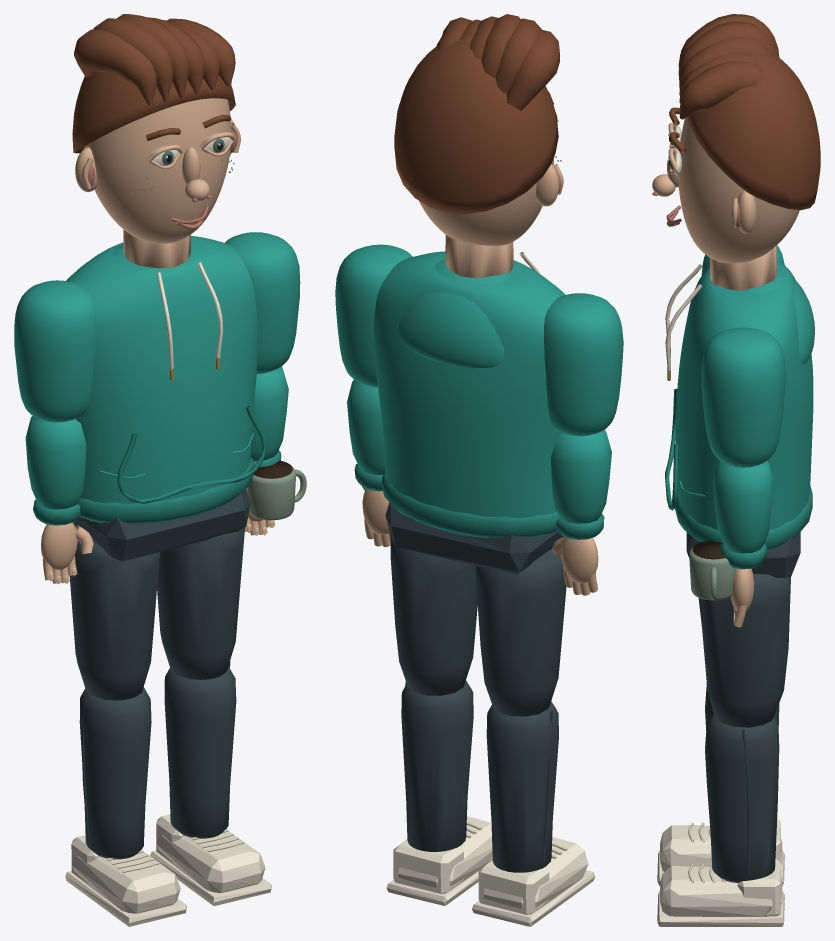
Rendered from wren.glb.
3 views of the same model, side by side, from view 1: azimuth 30°, elevation 25°; view 2: azimuth 150°, elevation 25°; view 3: azimuth 270°, elevation 25° (orthographic). The views are drawn at different scales.
Visible parts, largest first — view 1: Wren_Sweater, Wren_Brow, Wren_Face, Wren_Upper trouserL, Wren_Upper trouserR, Wren_Lower trouserR, Wren_Lower trouserL, Wren_SleeveL, Wren_SleeveR, Wren_ShoeL, Wren_ShoeR, Wren_Pelvis (+9 smaller); view 2: Wren_Sweater, Wren_Brow, Wren_Upper trouserL, Wren_Upper trouserR, Wren_Lower trouserR, Wren_Lower trouserL, Wren_SleeveL, Wren_ShoeL, Wren_SleeveR, Wren_ShoeR, Wren_Pelvis, Wren_Long sleeveL (+7 smaller); view 3: Wren_Brow, Wren_Sweater, Wren_Lower trouserR, Wren_Upper trouserR, Wren_SleeveR, Wren_Face, Wren_ShoeR, Wren_Long sleeveR, Wren_Hem, Wren_ShoeL, Wren_Neck, Wren_Ceramic cup (+5 smaller).
Part boxes in pixels (<box>): Wren_Sweater: <box>66,236,257,523</box>; Wren_Brow: <box>72,14,235,153</box>; Wren_Face: <box>75,98,240,243</box>; Wren_Upper trouserL: <box>69,540,159,700</box>; Wren_Upper trouserR: <box>157,527,244,679</box>; Wren_Lower trouserR: <box>164,661,236,838</box>; Wren_Lower trouserL: <box>79,687,151,859</box>; Wren_SleeveL: <box>14,280,96,422</box>; Wren_SleeveR: <box>225,232,300,374</box>; Wren_ShoeL: <box>65,835,187,926</box>; Wren_ShoeR: <box>150,814,271,905</box>; Wren_Pelvis: <box>72,489,250,561</box>; Wren_Sweater: <box>374,251,565,537</box>; Wren_Brow: <box>394,14,559,213</box>; Wren_Upper trouserL: <box>476,549,566,716</box>; Wren_Upper trouserR: <box>390,535,477,695</box>; Wren_Lower trouserR: <box>401,681,473,851</box>; Wren_Lower trouserL: <box>486,701,558,872</box>; Wren_SleeveL: <box>544,293,623,436</box>; Wren_ShoeL: <box>472,837,595,926</box>; Wren_SleeveR: <box>335,244,412,387</box>; Wren_ShoeR: <box>386,816,492,905</box>; Wren_Pelvis: <box>385,500,563,574</box>; Wren_Long sleeveL: <box>551,429,611,523</box>; Wren_Brow: <box>669,14,820,210</box>; Wren_Sweater: <box>676,260,814,550</box>; Wren_Lower trouserR: <box>705,714,779,882</box>; Wren_Upper trouserR: <box>698,573,790,727</box>; Wren_SleeveR: <box>701,327,785,467</box>; Wren_Face: <box>652,117,799,263</box>; Wren_ShoeR: <box>657,858,784,926</box>; Wren_Long sleeveR: <box>713,460,773,553</box>; Wren_Hem: <box>665,388,812,549</box>; Wren_ShoeL: <box>657,819,784,885</box>; Wren_Neck: <box>710,246,776,290</box>; Wren_Ceramic cup: <box>689,547,735,600</box>.
Size of the model in its own units: 0.6823 by 2.06 by 0.3669.
